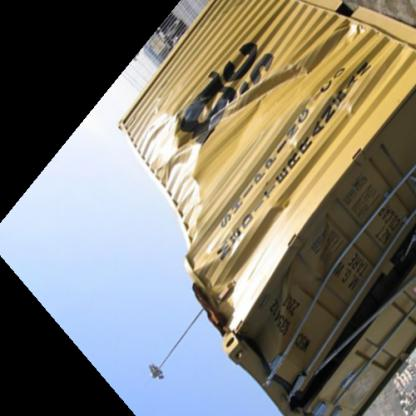Damage: (161, 26, 341, 220), (294, 215, 408, 401)
